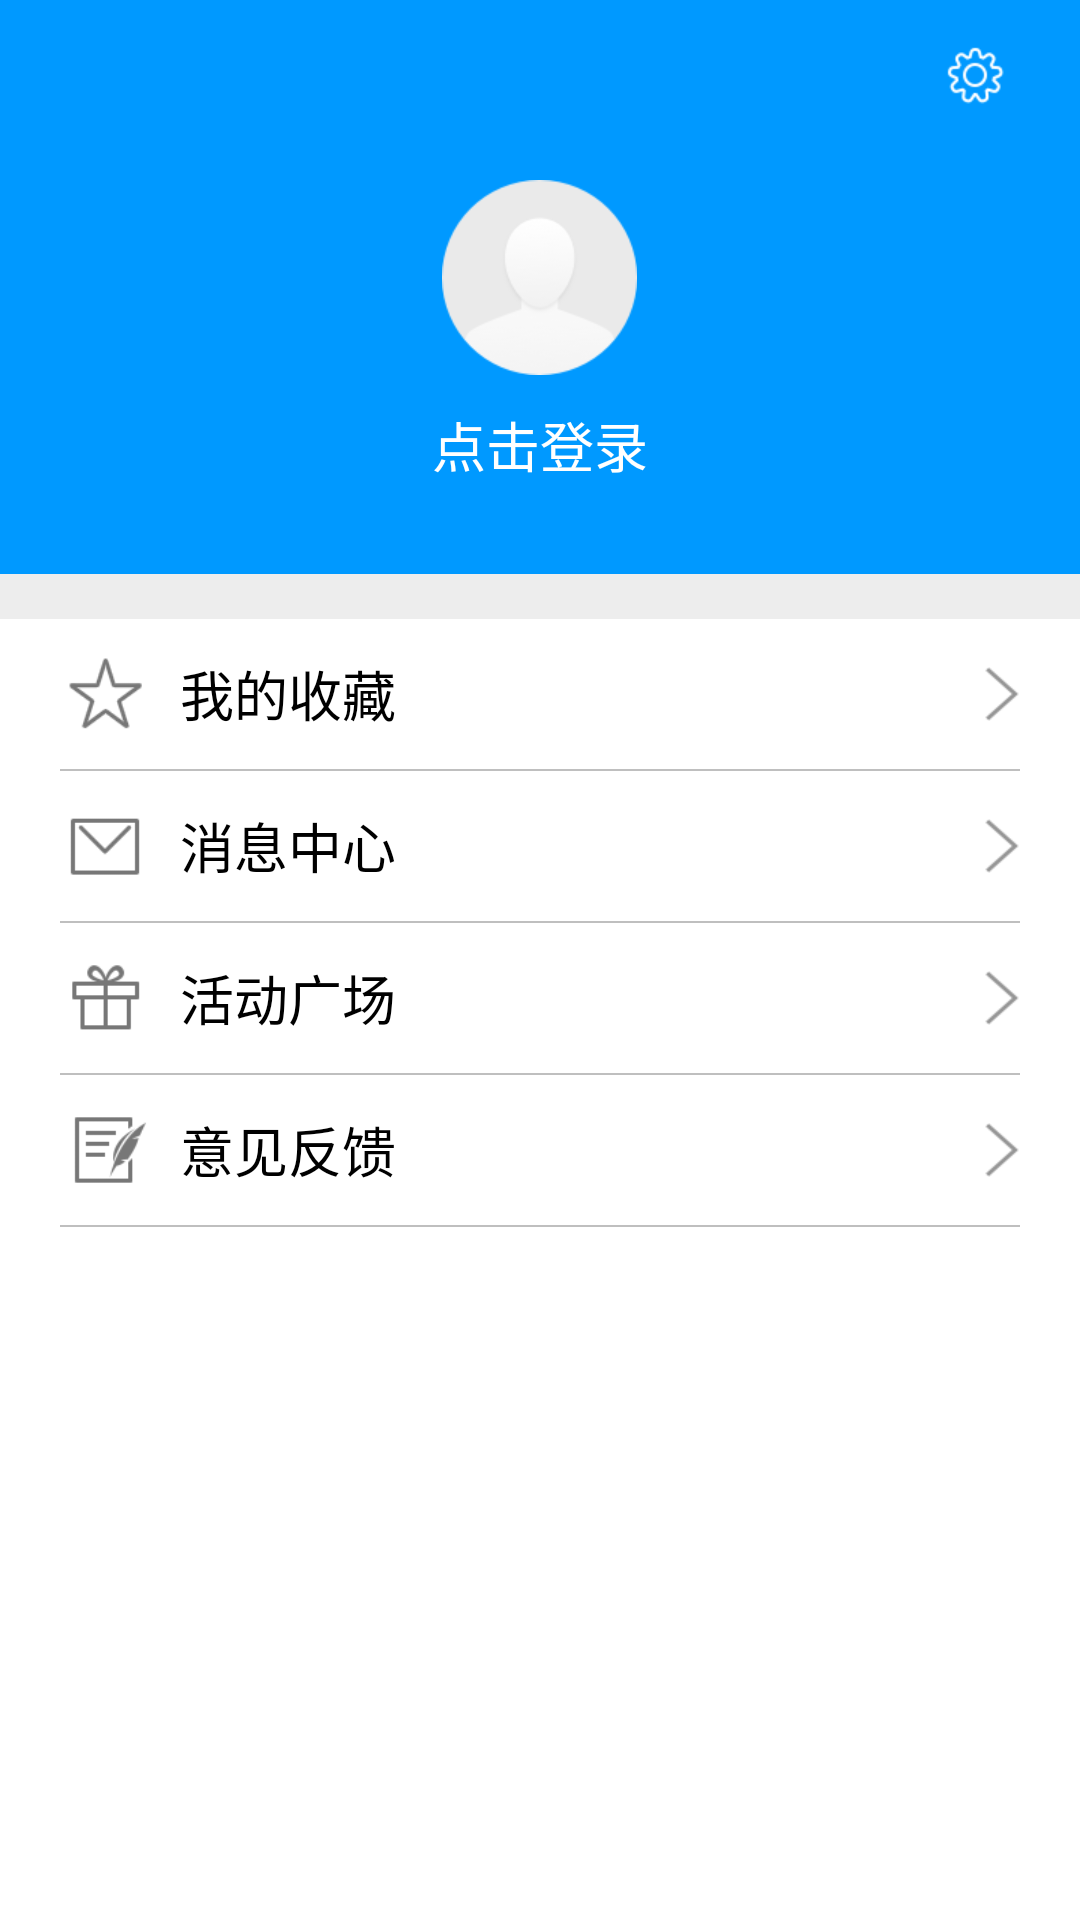

Icon click points for this 1080px×1920px phone screenshot, format (x,y):
me activity: (106,997)
me collection: (105,693)
me feedback: (110,1150)
me info: (105,846)
me next: (1002,694), (1002,846), (1002,998), (1002,1150)
me user center head: (539,277)
